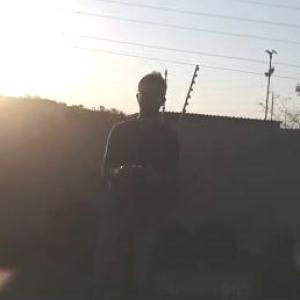follow: (99, 66, 185, 299)
